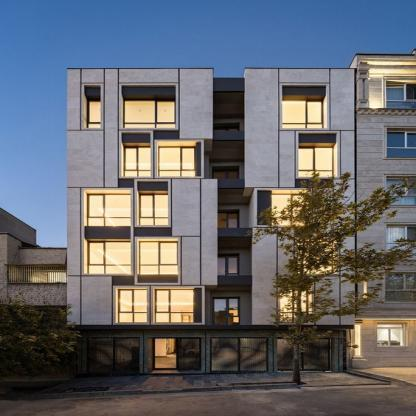Balcony: (218, 275, 253, 284), (218, 228, 253, 237), (213, 131, 244, 140), (213, 179, 244, 188)
Building Outline: (67, 67, 355, 379)
Door: (87, 338, 139, 374), (211, 338, 267, 371), (278, 338, 331, 371), (154, 338, 202, 371), (212, 254, 240, 284), (212, 210, 240, 240), (212, 166, 240, 196), (212, 127, 239, 157), (213, 297, 241, 325)
Facade: (67, 67, 357, 379)
Floor Slab: (67, 136, 355, 140), (67, 280, 355, 284), (67, 233, 355, 237), (67, 184, 355, 188), (69, 325, 354, 329)
Window: (87, 242, 131, 275), (125, 102, 176, 129), (88, 194, 131, 226), (139, 242, 177, 275), (155, 289, 193, 322), (281, 101, 323, 130), (298, 149, 334, 180), (159, 147, 196, 177), (298, 242, 332, 274), (271, 195, 307, 224), (118, 289, 148, 323), (278, 289, 307, 323), (140, 195, 169, 225), (125, 148, 151, 177), (86, 101, 104, 129)
